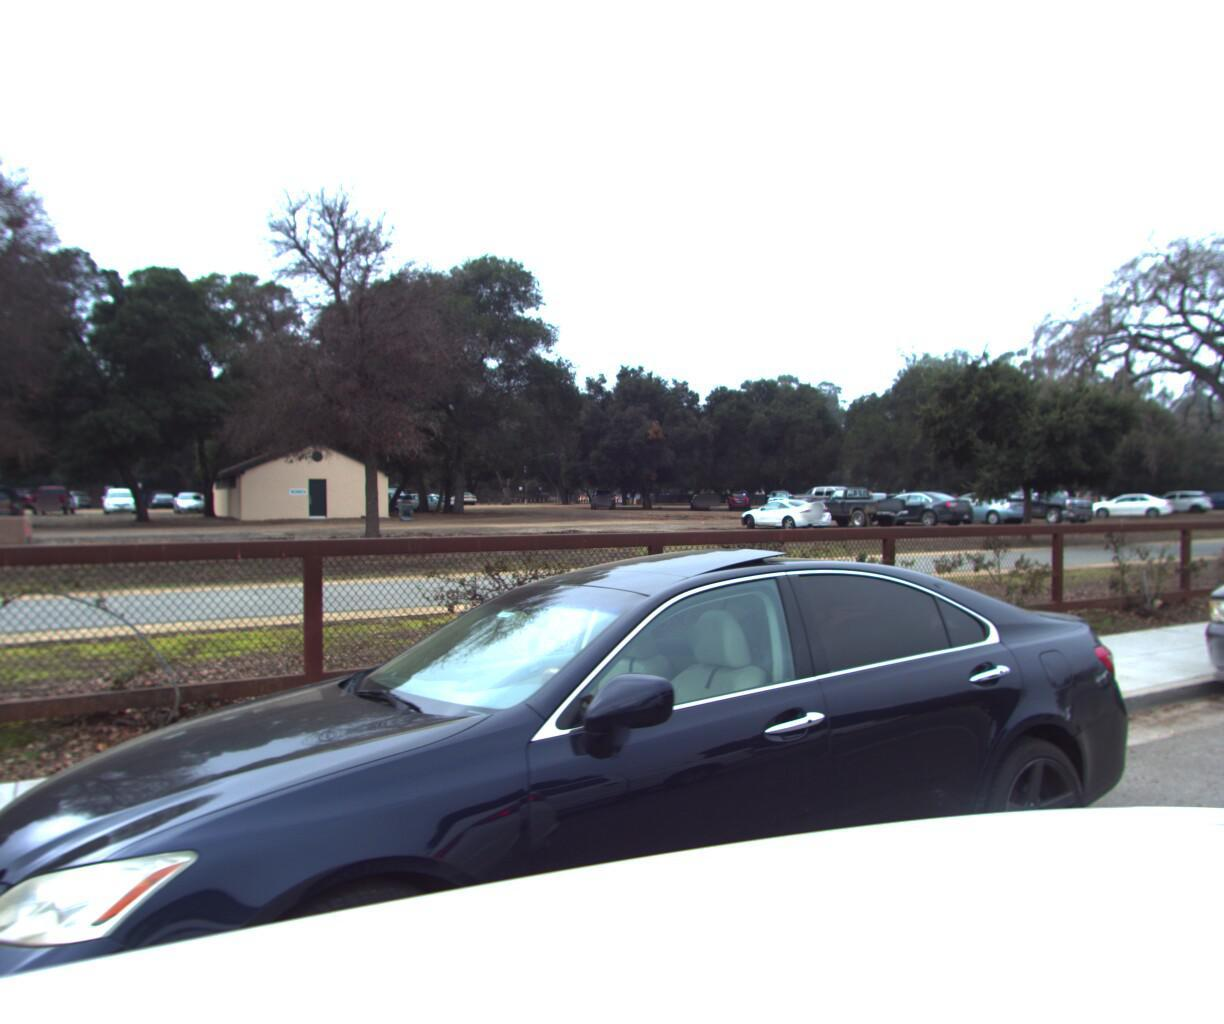car: (0, 532, 1205, 1024), (1149, 405, 1224, 754)
